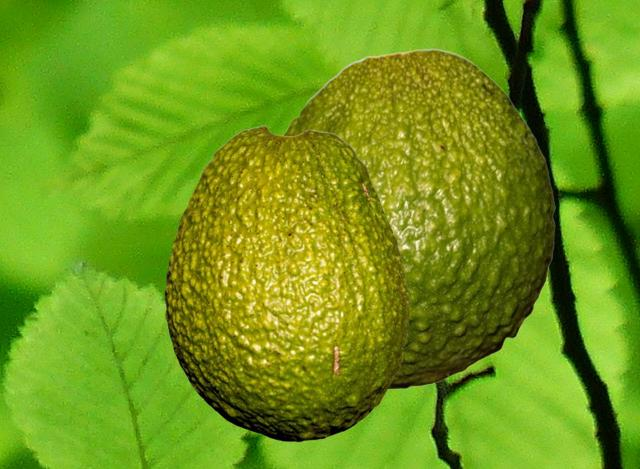avocado: (281, 48, 554, 388), (164, 125, 408, 441)
